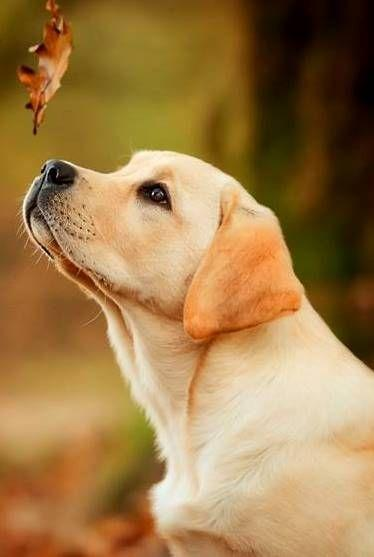puppy-dog: (20, 149, 374, 557)
